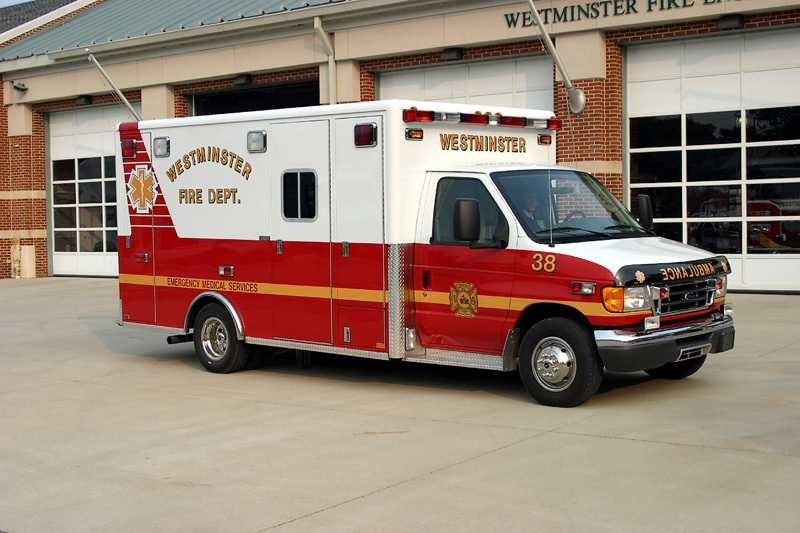Fire Truck: (97, 81, 748, 406)
